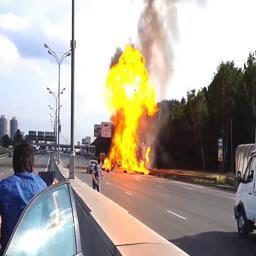fire: (104, 43, 160, 175)
